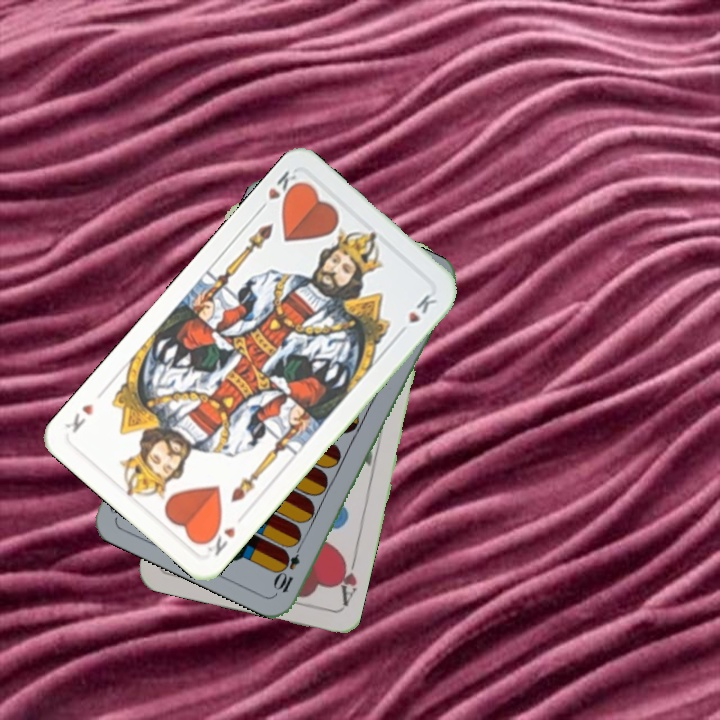E10: (271, 538, 305, 595)
HA: (332, 551, 360, 609)
HK: (253, 166, 304, 215), (203, 523, 238, 559)
